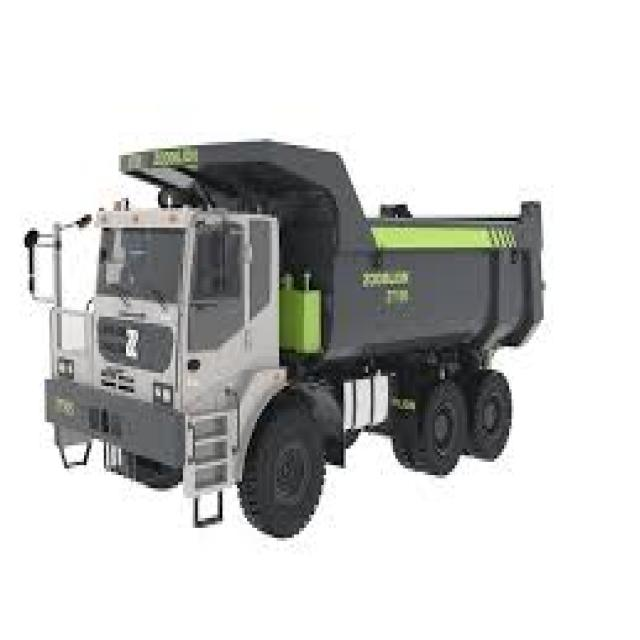dump_truck: (19, 140, 548, 549)
